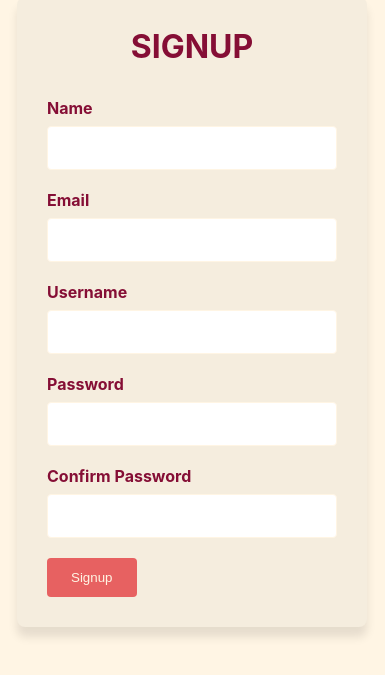
it: Test sign up with NON MATCHING passwords
This screenshot has width=385, height=675.
Simulate user input with non-matching passwords.
Type "Ahmad" into the field labelled "Name" at (192, 148), box [47,126,337,170]
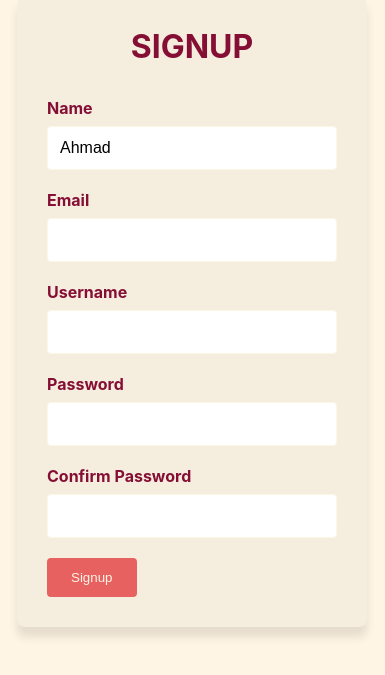
Type "DummyEmail@gmail.com" into the field labelled "Email" at (192, 240), box [47,218,337,262]
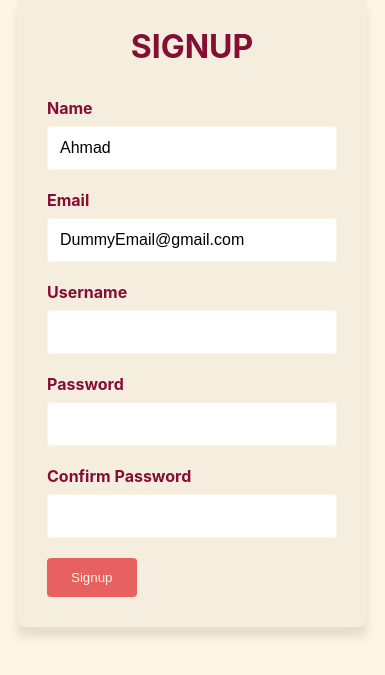
Type "AhmadTheBeast" into the field labelled "Username" at (192, 332), box [47,310,337,354]
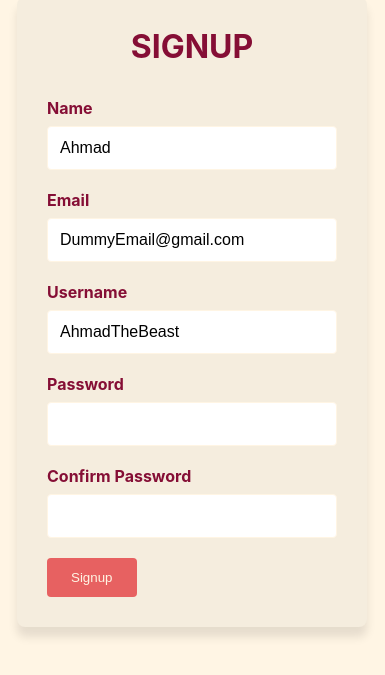
Type "321HELLOWORLD!" into the password field labelled "Password" at (192, 424), box [47,402,337,446]
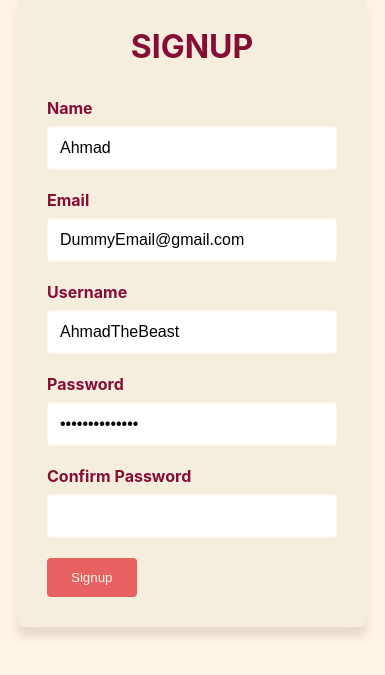
Type "HELLOWORLD123!" into the password field labelled "Confirm Password" at (192, 516), box [47,494,337,538]
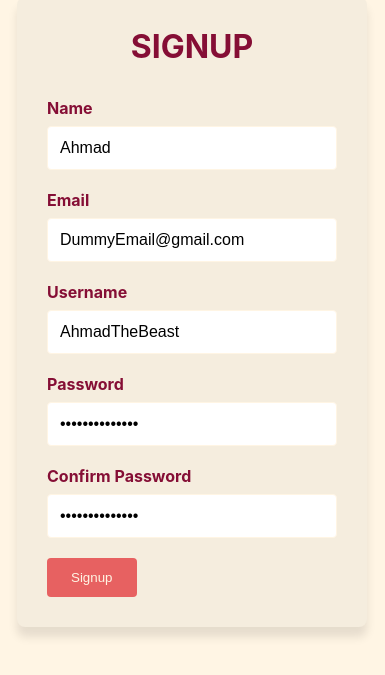
Click the button "Signup" at (92, 578), box [47,558,136,597]
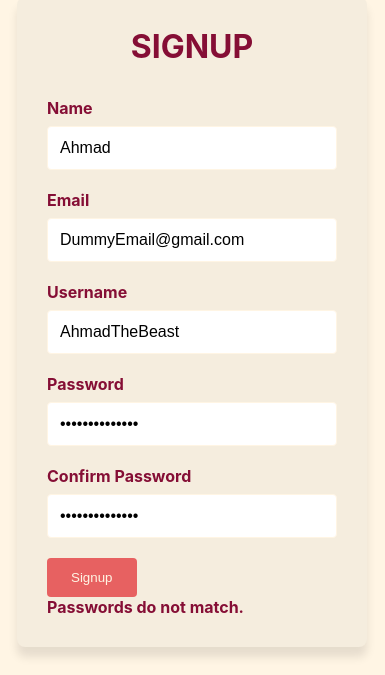
Expected: the text "Passwords do not match." is shown, [47,597,244,617]
